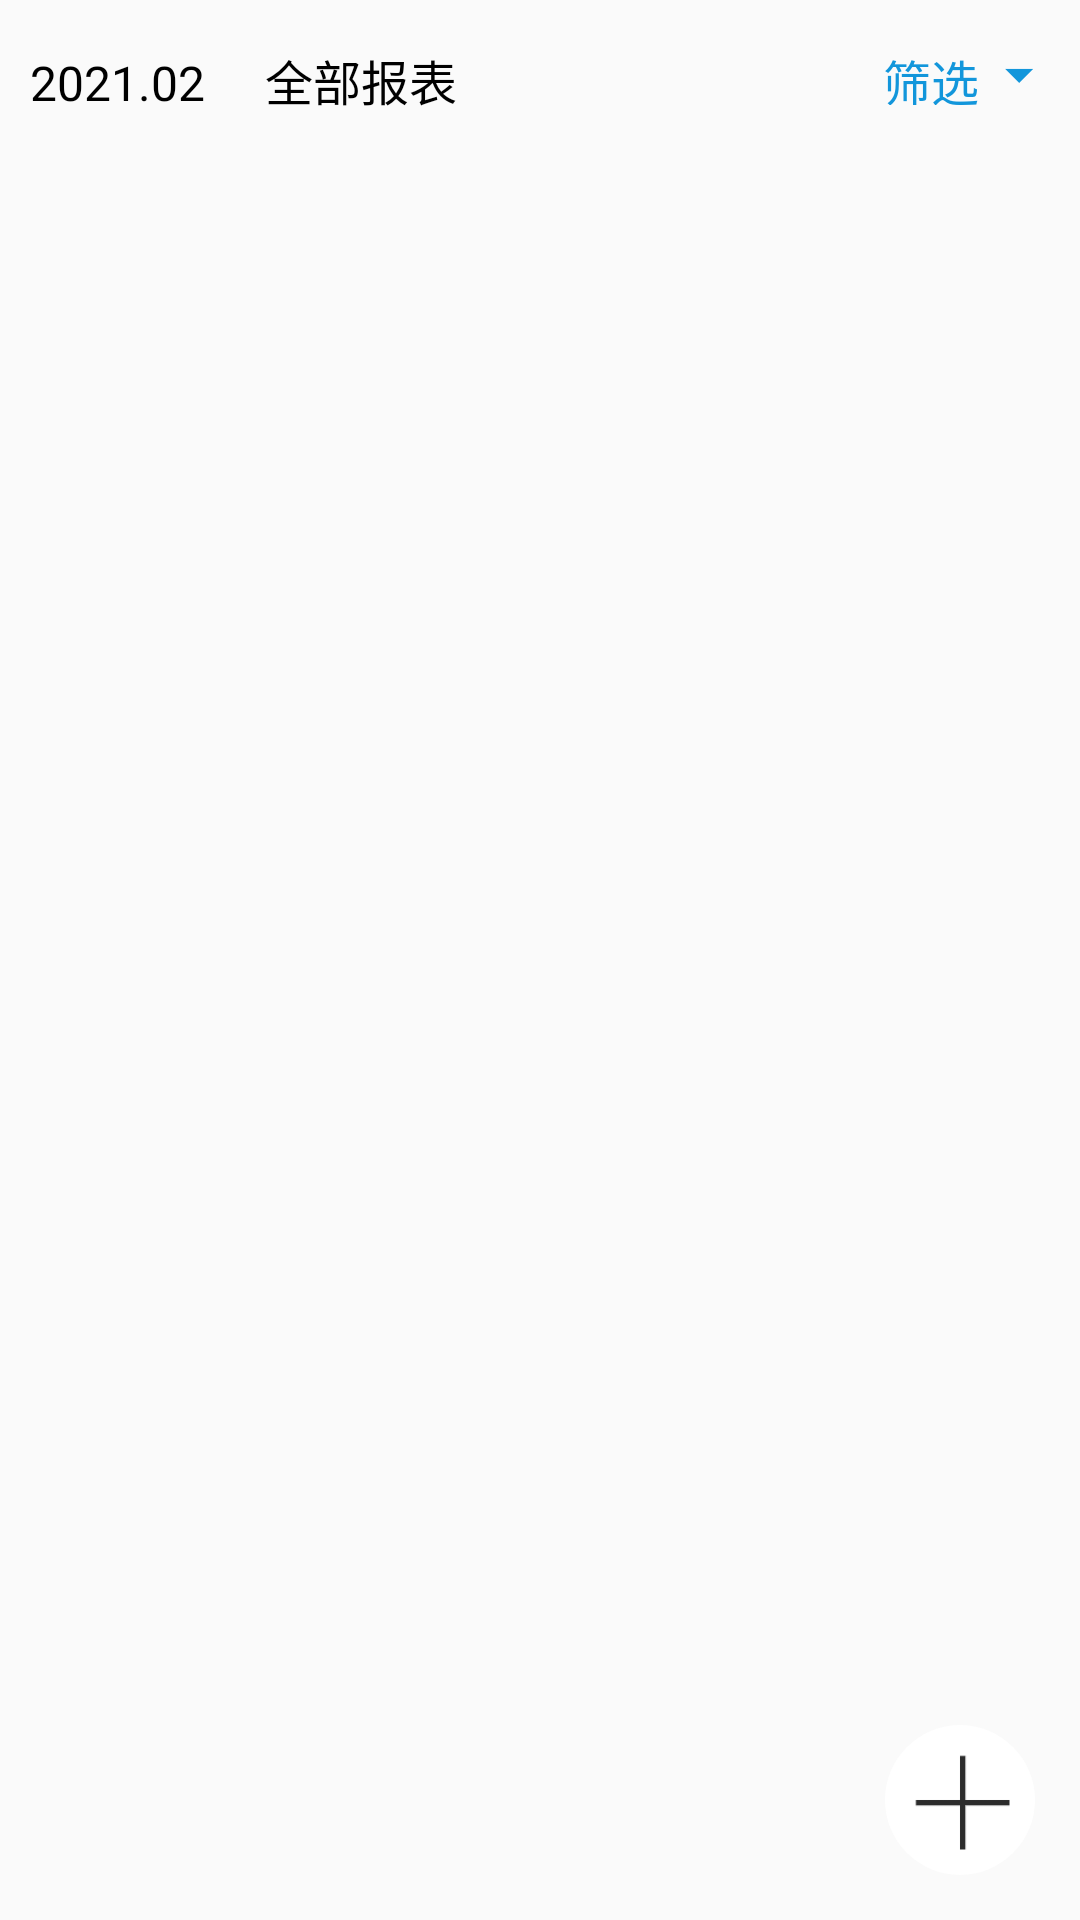

Where to tap for icons on this 1080 x 1920 app screen, as point (x, y):
add: point (962, 1802)
